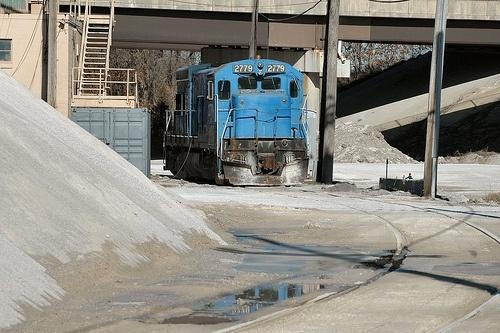train: (163, 55, 318, 189)
